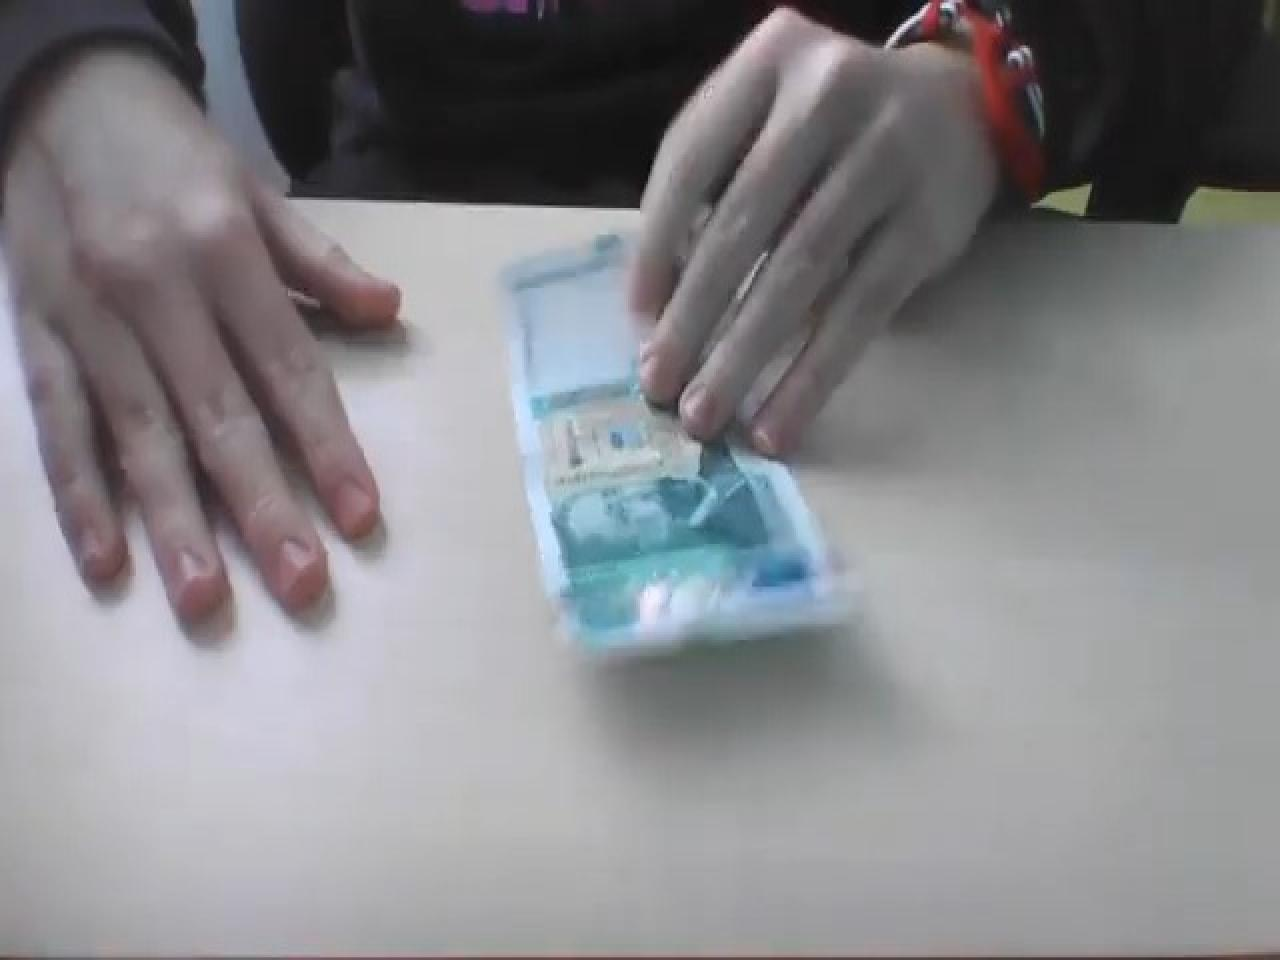100leva: (498, 230, 856, 662)
